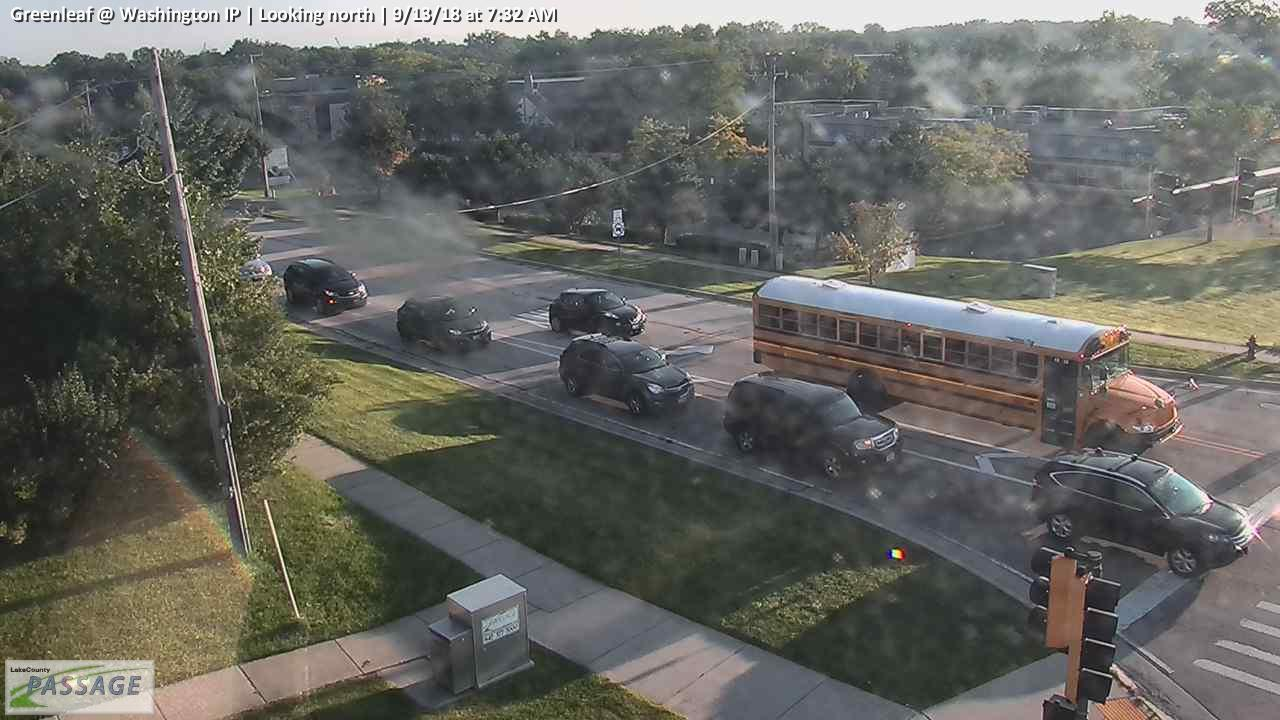Bus: (748, 275, 1180, 452)
SUV: (1031, 447, 1248, 579), (722, 371, 903, 486), (557, 333, 697, 418), (396, 296, 492, 351), (548, 287, 649, 338), (281, 259, 367, 313)
